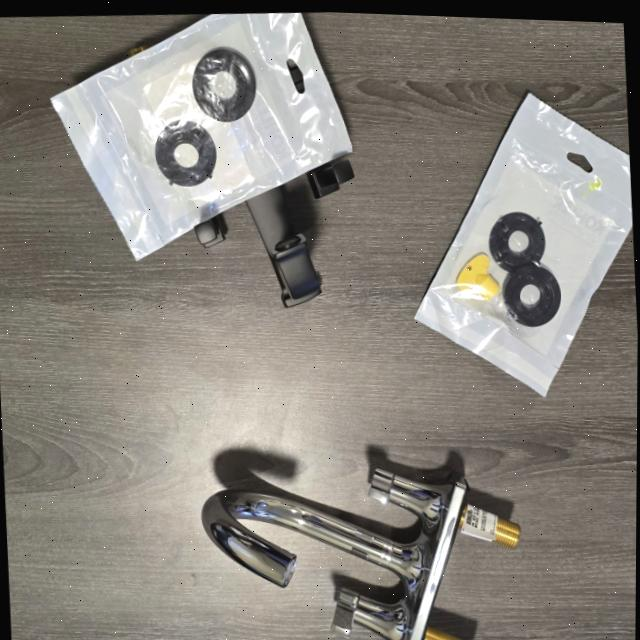10: (224, 466, 520, 640), (209, 519, 297, 586)
12: (416, 93, 633, 395)
13: (52, 12, 352, 259)
9o: (247, 184, 321, 307), (304, 154, 354, 197), (196, 221, 220, 245)
